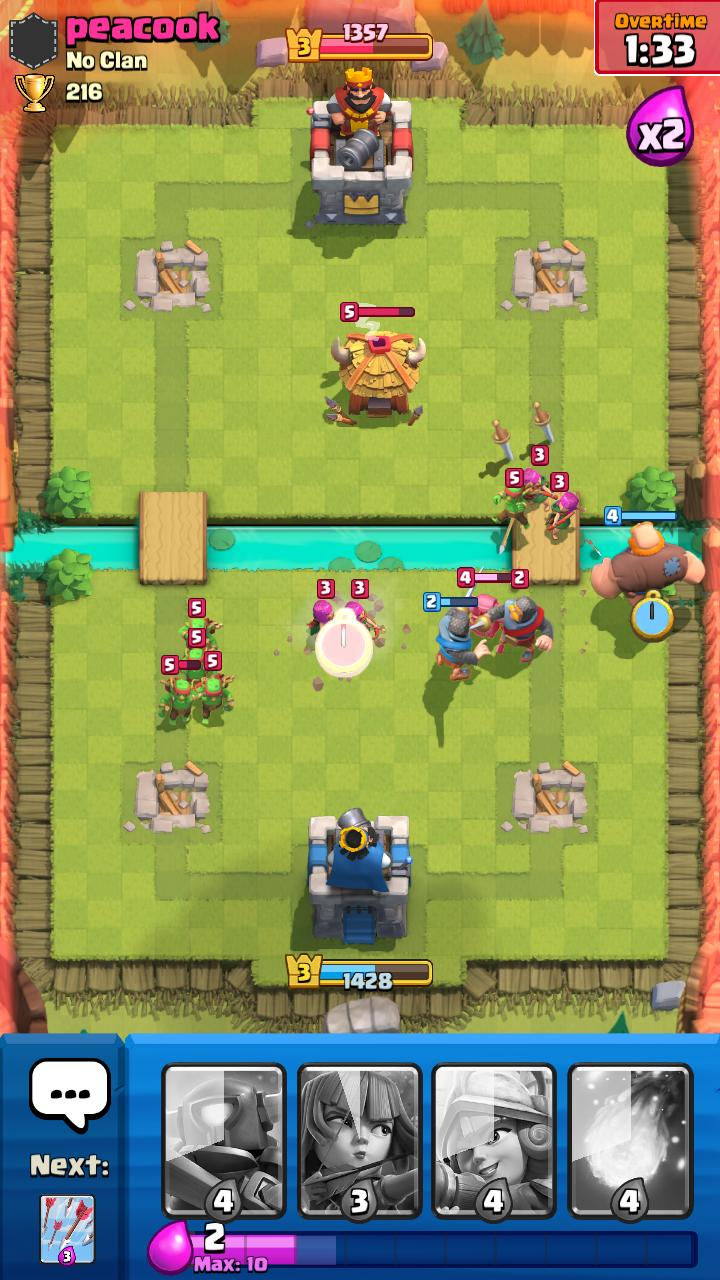ally: (590, 505, 706, 623), (422, 565, 492, 681)
enemy: (324, 303, 427, 426), (478, 589, 552, 665), (456, 566, 512, 654), (491, 468, 541, 530), (192, 651, 234, 724), (158, 655, 201, 725), (545, 472, 586, 540), (178, 598, 223, 657), (345, 579, 386, 640), (524, 445, 558, 511), (179, 628, 215, 687), (306, 579, 334, 638)
